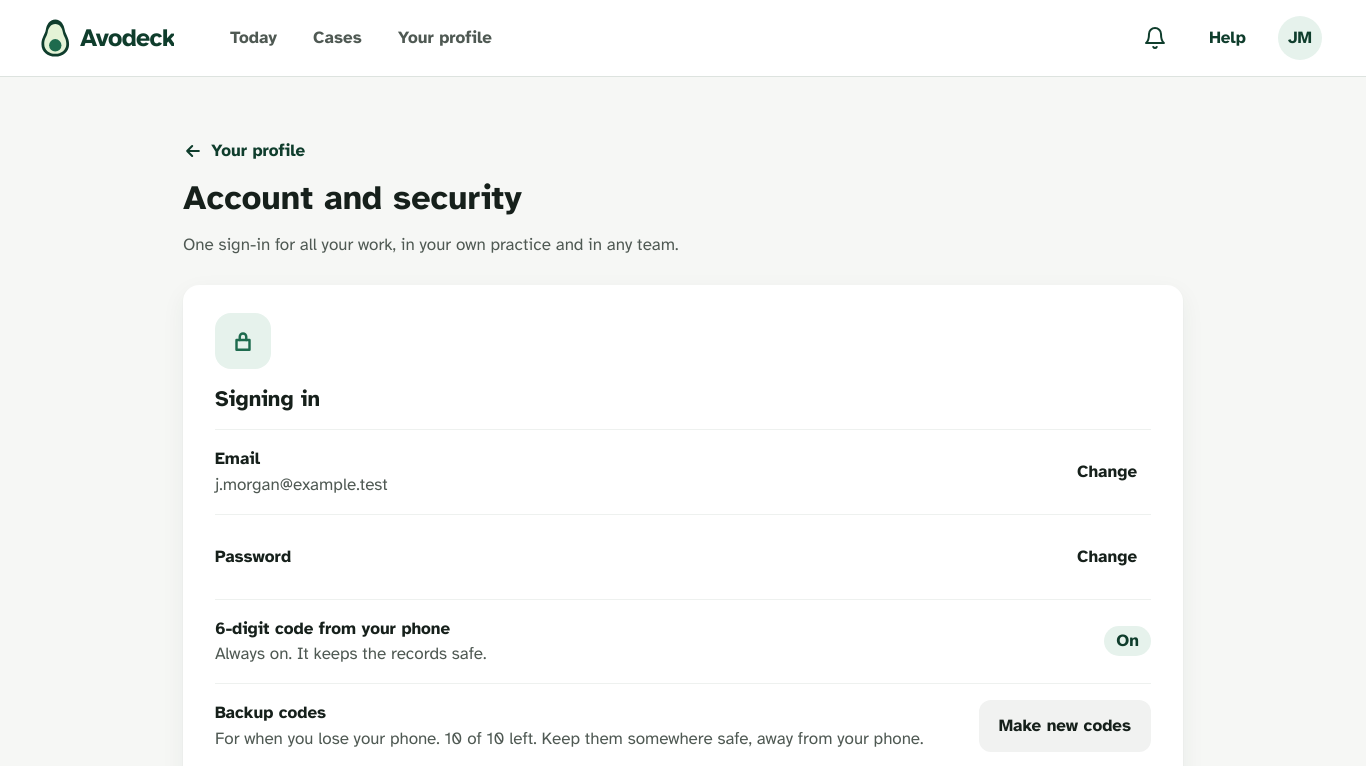
Test: changing email sends a link to both addresses
Step 1. Click the button with aria-label "Change email" → {"x": 1107, "y": 472}, box [1063,446,1151,498]
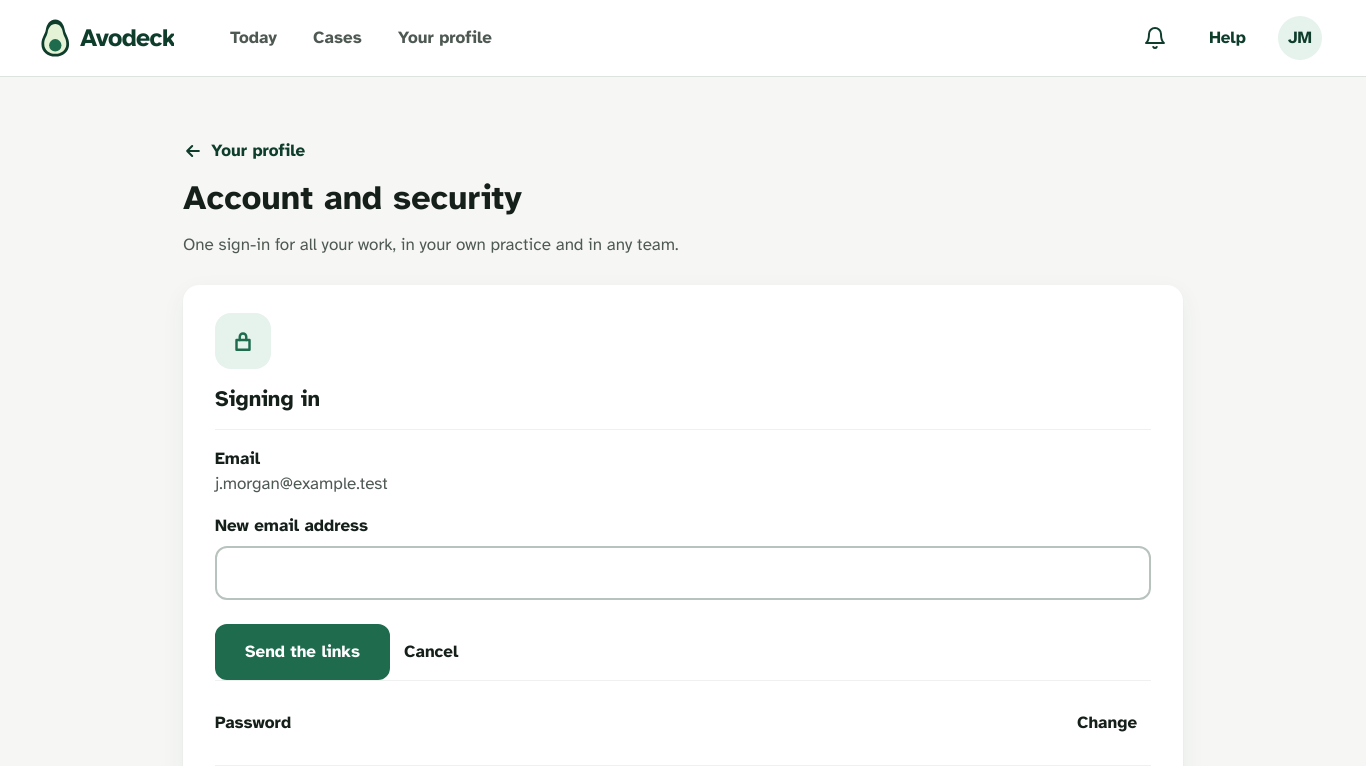
Step 2. Type "jane@example.test" into the field labelled "New email address" → {"x": 683, "y": 573}, box [215,546,1151,600]
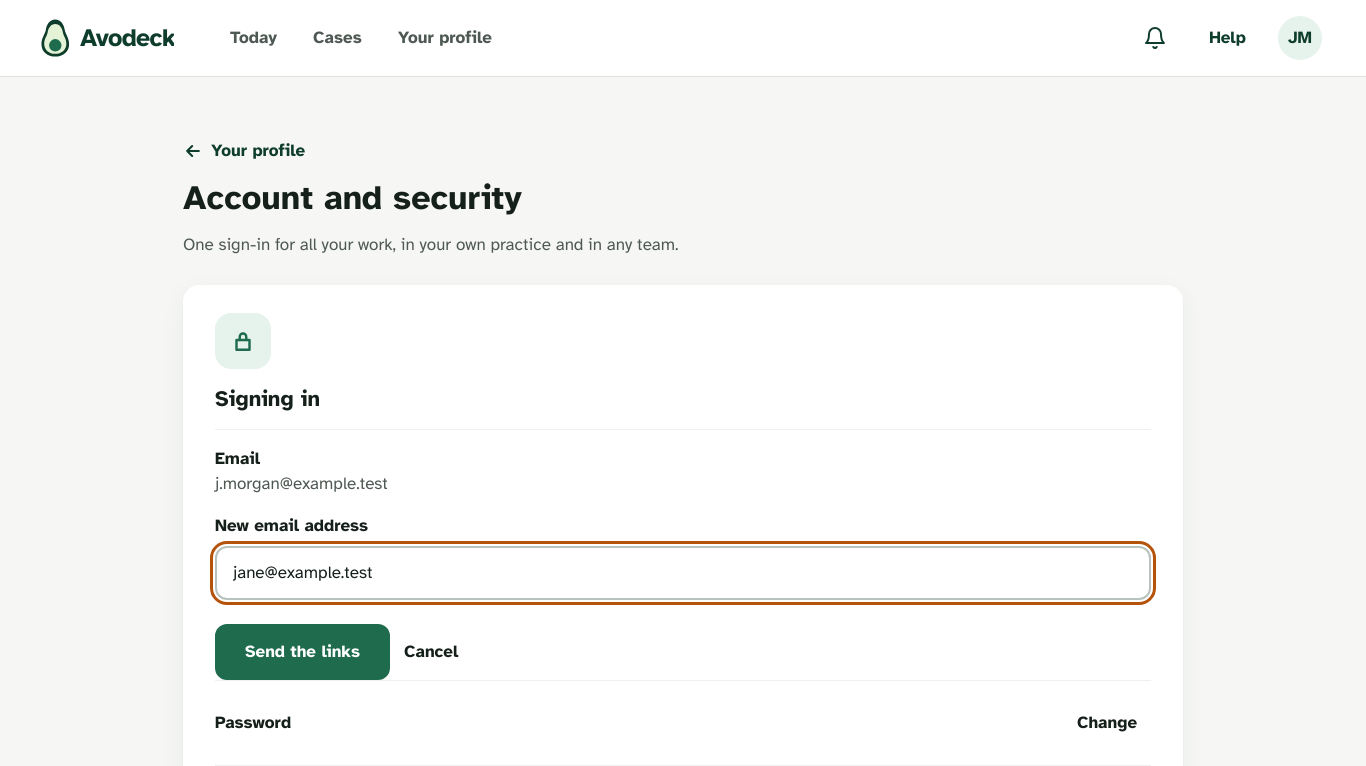
Step 3. Click the button "Send the links" → {"x": 303, "y": 652}, box [215,624,390,680]
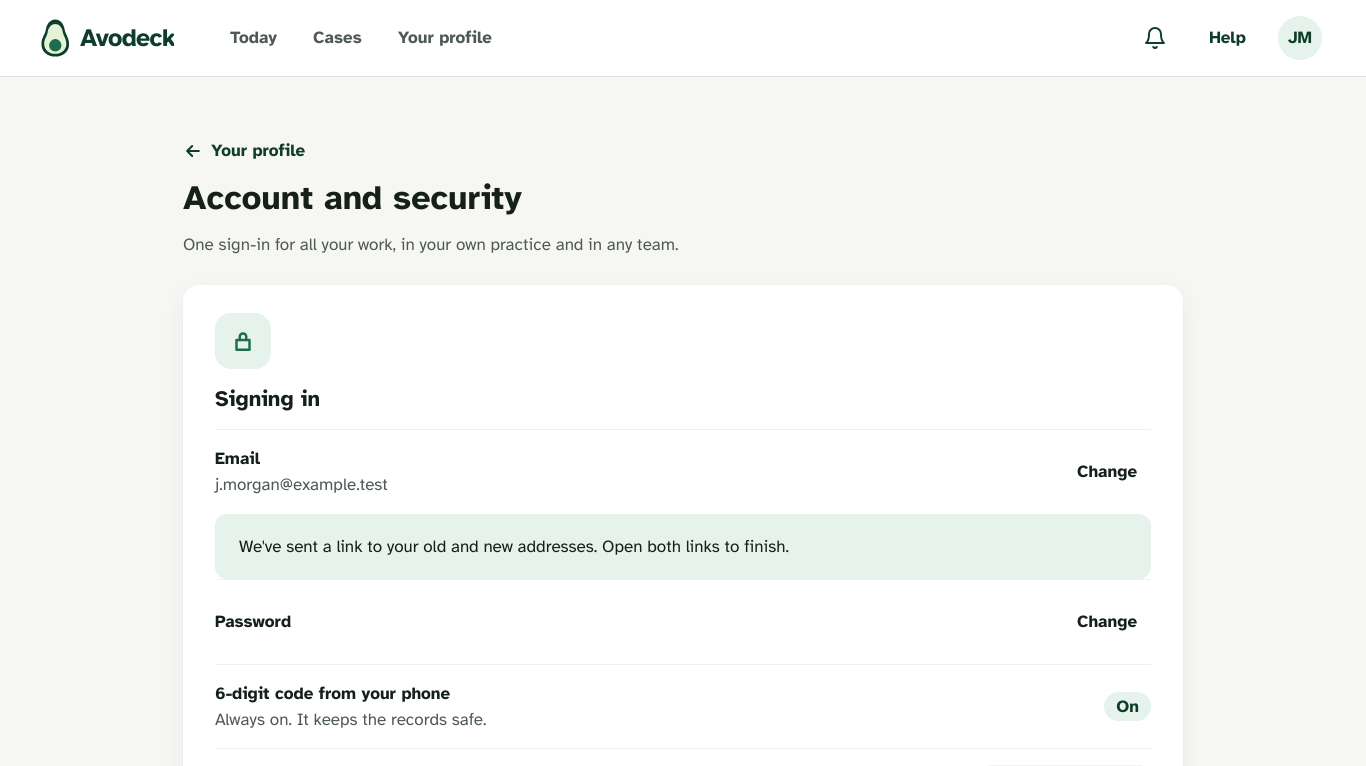
Result: the text "We've sent a link to your old and new addresses. Open both links to finish." is shown at [239,536,789,556]
